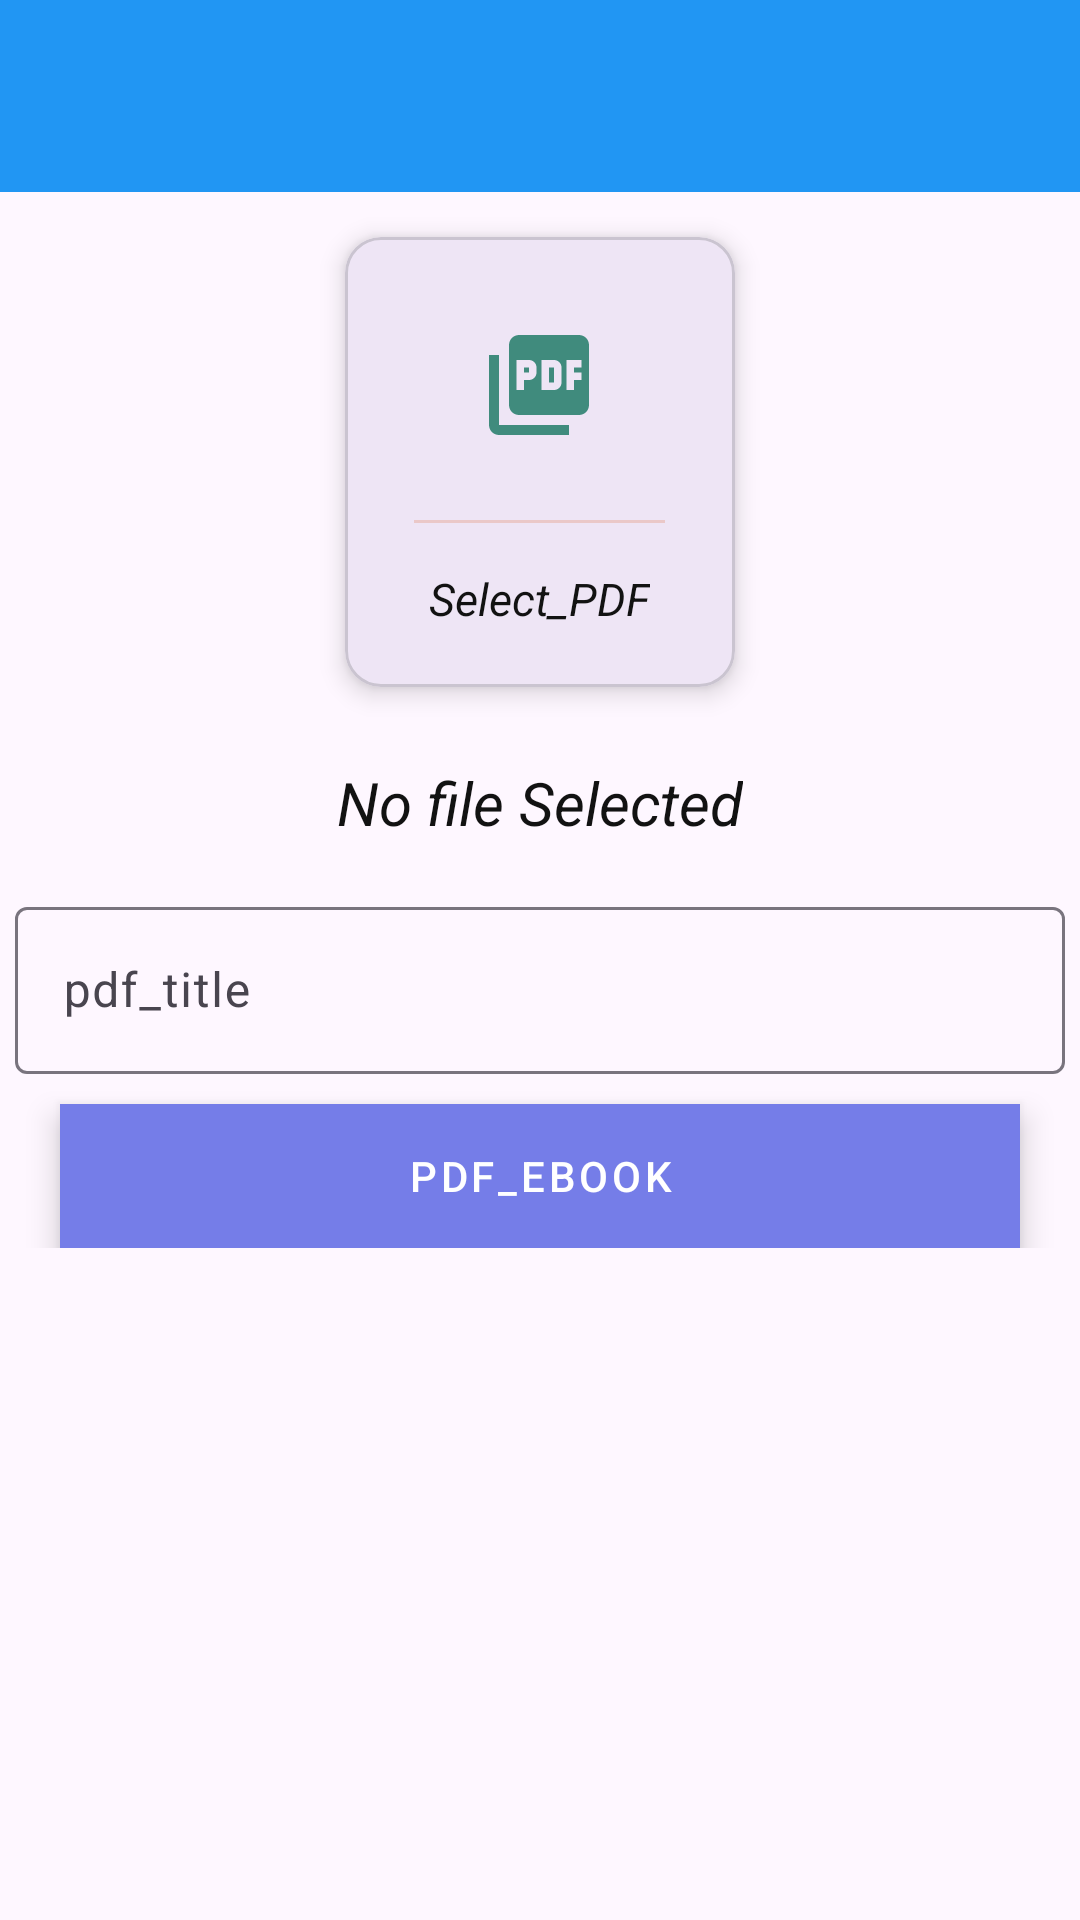

Where to tap for icons on this 1080w x 1920h app screen, as (x,y):
picture as pdf: (539,385)
